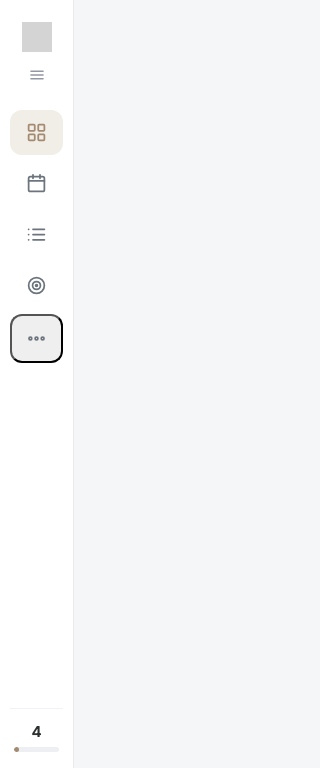
Test: on a phone › closes the sheet when a scrim tap lands, since there is no Escape key
Click the button named "More": point(36, 338) [10, 314, 63, 363]
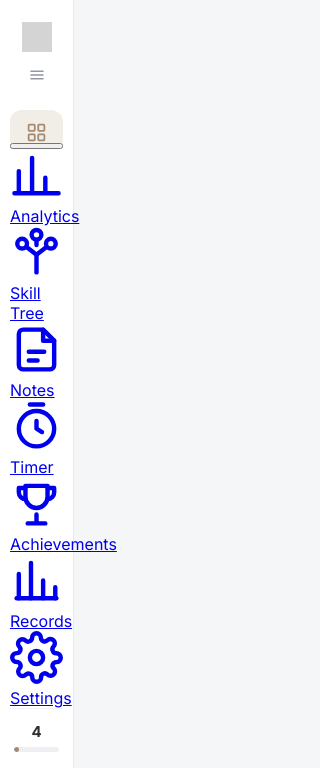
Click the button named "Close menu": point(36, 146) [10, 143, 63, 149]
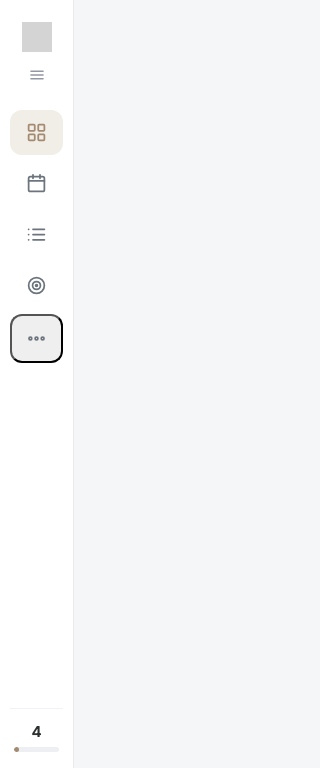
Now the menu is gone
